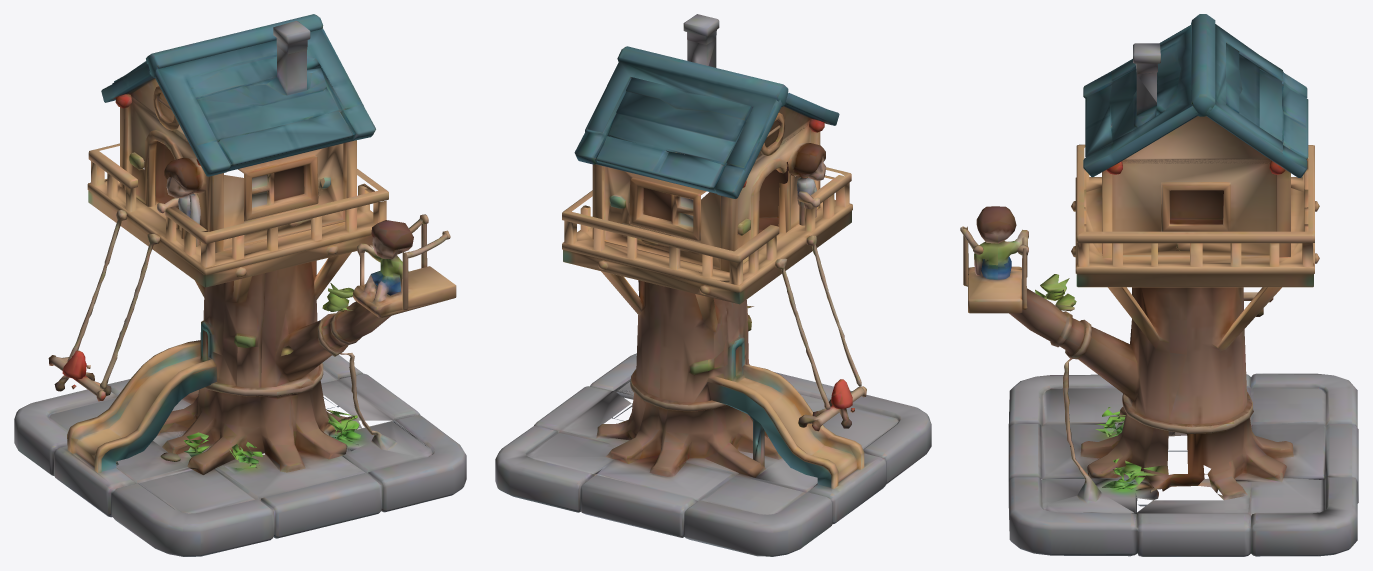
File: treehouse.glb
3 renders of one model, left to right at view 1: azimuth 30°, elevation 25°; view 2: azimuth 150°, elevation 25°; view 3: azimuth 270°, elevation 25°, orthographic. The views are drawn at different scales.
Visible parts, largest first — view 1: tripo_node_a21940a9-6616-4fc5-a1b5-39a0c1a949f5; view 2: tripo_node_a21940a9-6616-4fc5-a1b5-39a0c1a949f5; view 3: tripo_node_a21940a9-6616-4fc5-a1b5-39a0c1a949f5.
Part boxes in pixels (<box>): tripo_node_a21940a9-6616-4fc5-a1b5-39a0c1a949f5: <box>14,14,466,556</box>; tripo_node_a21940a9-6616-4fc5-a1b5-39a0c1a949f5: <box>495,14,931,556</box>; tripo_node_a21940a9-6616-4fc5-a1b5-39a0c1a949f5: <box>960,14,1358,556</box>.
Size of the model in its own units: 0.7441 by 0.9801 by 0.7883.
Materials: 1 (1 with a texture image).
